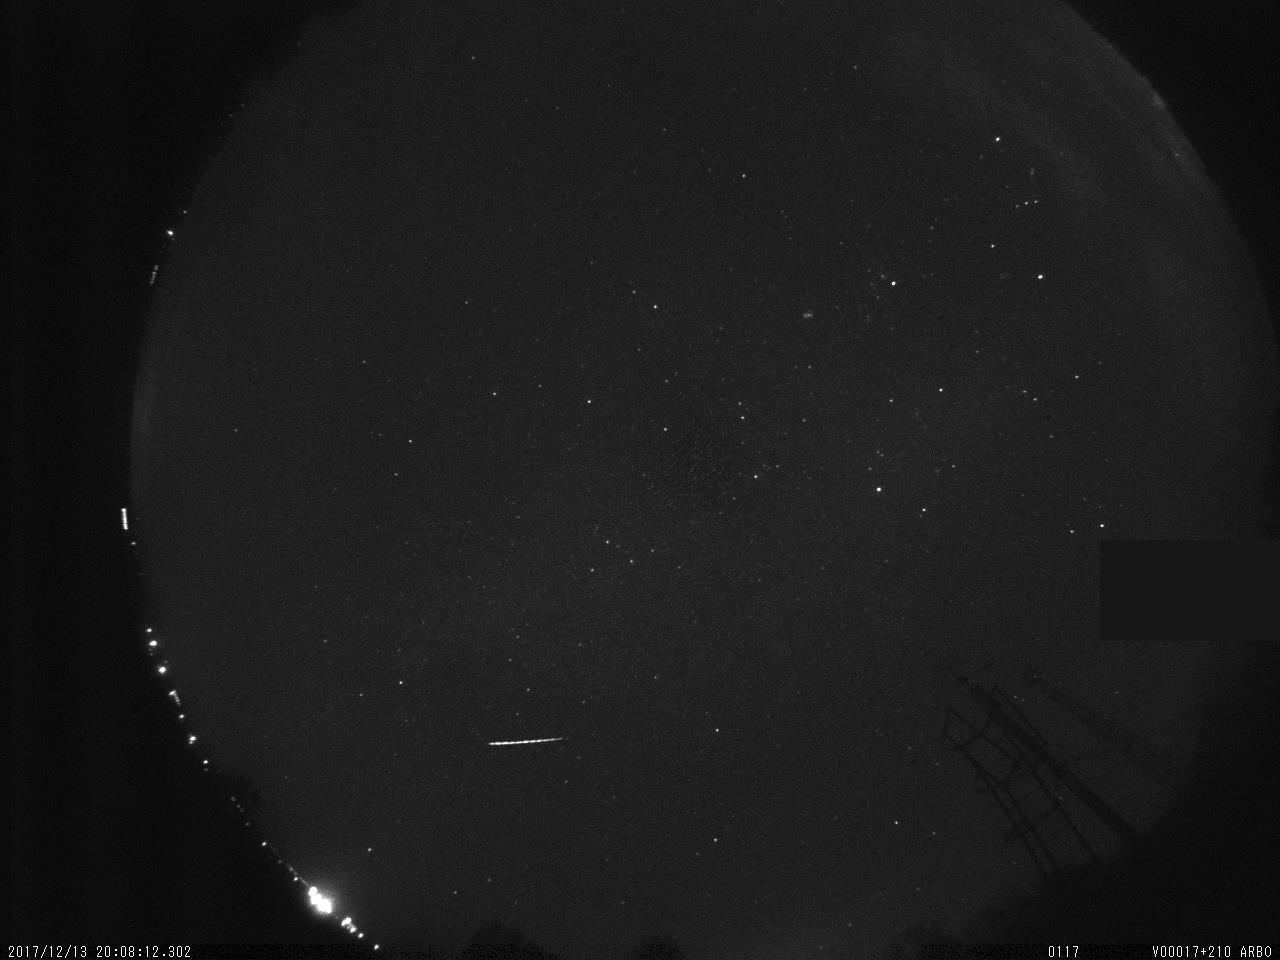Meteor: (482, 729, 575, 754)
